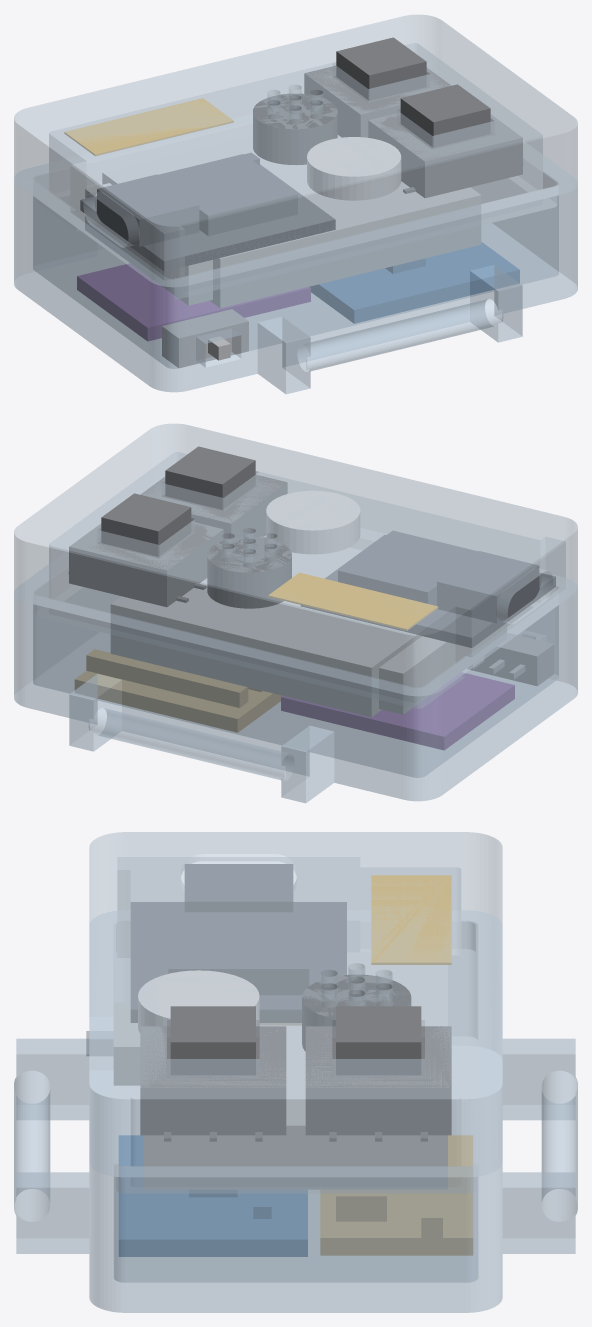
File: assembly_xiao_led.glb
The picture shows the model from 3 angles, top to bottom: view 1: azimuth 30°, elevation 25°; view 2: azimuth 150°, elevation 25°; view 3: azimuth 270°, elevation 25°; orthographic projection. The views are drawn at different scales.
Parts seen in each view (by area): view 1: Case lid, Case base, LiPo 602535, XIAO ESP32-S3, Button B, MPU6050 GY-521, Button A, MAX30102, Vibration motor 1027, Buzzer 9042, FPC antenna, Power switch SS12D00; view 2: Case lid, Case base, LiPo 602535, XIAO ESP32-S3, Button A, Driver strip, Button B, MAX30102, Buzzer 9042, Vibration motor 1027, FPC antenna, Power switch SS12D00; view 3: Case lid, Case base, XIAO ESP32-S3, LiPo 602535, Button A, Button B, MPU6050 GY-521, Driver strip, FPC antenna, Vibration motor 1027, Buzzer 9042, Power switch SS12D00.
Part boxes in pixels (box(x1,y1,x2,y2)): Case lid: box(14, 14, 577, 298); Case base: box(14, 155, 577, 394); LiPo 602535: box(85, 135, 481, 307); XIAO ESP32-S3: box(80, 152, 335, 271); Button B: box(368, 84, 523, 197); MPU6050 GY-521: box(310, 242, 519, 323); Button A: box(304, 37, 450, 137); MAX30102: box(77, 264, 310, 341); Vibration motor 1027: box(307, 137, 401, 200); Buzzer 9042: box(253, 93, 337, 164); FPC antenna: box(64, 98, 233, 156); Power switch SS12D00: box(162, 309, 248, 368); Case lid: box(14, 423, 577, 708); Case base: box(14, 564, 577, 803); LiPo 602535: box(110, 535, 506, 716); XIAO ESP32-S3: box(300, 530, 555, 647); Button A: box(68, 493, 223, 606); Driver strip: box(75, 649, 281, 732); Button B: box(141, 446, 287, 539); MAX30102: box(281, 673, 514, 750); Buzzer 9042: box(207, 537, 291, 608); Vibration motor 1027: box(266, 490, 360, 554); FPC antenna: box(268, 572, 438, 630); Power switch SS12D00: box(468, 633, 553, 685); Case lid: box(89, 832, 502, 1192); Case base: box(14, 910, 577, 1312); XIAO ESP32-S3: box(130, 864, 346, 1022); LiPo 602535: box(144, 952, 447, 1188); Button A: box(305, 1006, 451, 1141); Button B: box(140, 1006, 286, 1141); MPU6050 GY-521: box(118, 1135, 307, 1256); Driver strip: box(320, 1135, 473, 1255); FPC antenna: box(371, 875, 451, 964); Vibration motor 1027: box(138, 970, 259, 1032); Buzzer 9042: box(302, 974, 411, 1051); Power switch SS12D00: box(86, 1002, 140, 1085).
Size of the model in its own units: 0.052 by 0.0208 by 0.0464.
